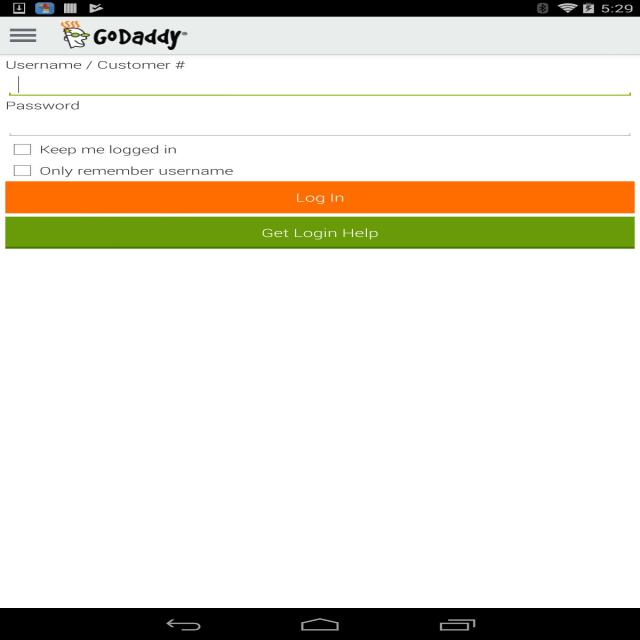button: (8, 181, 634, 213), (7, 216, 633, 248), (0, 21, 49, 51), (10, 140, 36, 158), (13, 163, 34, 178)
field: (2, 97, 634, 136), (3, 57, 633, 95)
image: (60, 19, 191, 55)
label: (2, 59, 188, 71), (38, 166, 235, 177), (36, 144, 183, 156), (3, 99, 84, 110)
